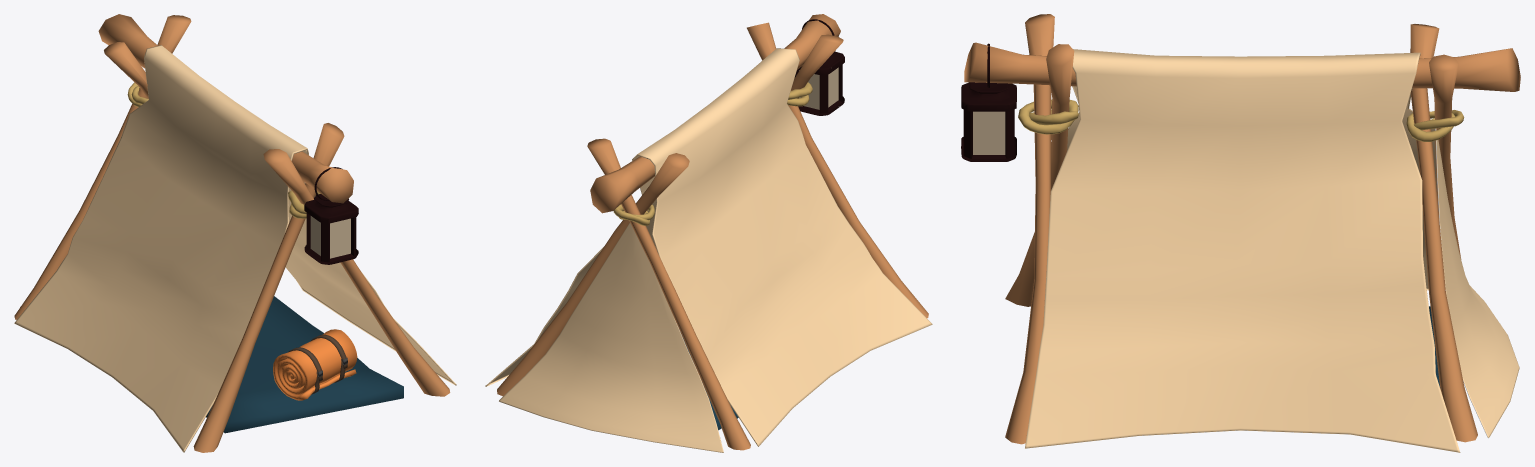
Rendered from tent.glb.
The picture shows the model from 3 angles, left to right: view 1: azimuth 30°, elevation 25°; view 2: azimuth 150°, elevation 25°; view 3: azimuth 270°, elevation 25°; orthographic projection. The views are drawn at different scales.
Visible parts, largest first — view 1: tent_Mat_0.021, tent_Mat_0.008, tent_Mat_0.002, tent_Mat_0.001, tent_Mat_0.005, Lamp, tent_Mat_0, tent_Mat_0.004, tent_Mat_0.003; view 2: tent_Mat_0.021, tent_Mat_0.018, tent_Mat_0.004, tent_Mat_0.003, tent_Mat_0, tent_Mat_0.002, Lamp, tent_Mat_0.001; view 3: tent_Mat_0.021, tent_Mat_0.018, tent_Mat_0.003, tent_Mat_0.001, tent_Mat_0, Lamp, tent_Mat_0.002, tent_Mat_0.004, tent_Mat_0.006, tent_Mat_0.010.
Part boxes in pixels (x1,y1,x2,y2): tent_Mat_0.021: (14, 45, 456, 452); tent_Mat_0.008: (206, 296, 403, 433); tent_Mat_0.002: (193, 123, 344, 452); tent_Mat_0.001: (263, 149, 450, 396); tent_Mat_0.005: (273, 329, 357, 400); Lamp: (304, 167, 358, 264); tent_Mat_0: (98, 14, 353, 203); tent_Mat_0.004: (14, 15, 191, 319); tent_Mat_0.003: (104, 42, 148, 98); tent_Mat_0.021: (485, 48, 932, 446); tent_Mat_0.018: (499, 223, 723, 452); tent_Mat_0.004: (587, 138, 750, 450); tent_Mat_0.003: (497, 153, 689, 396); tent_Mat_0: (590, 14, 840, 213); tent_Mat_0.002: (747, 22, 928, 318); Lamp: (794, 19, 844, 115); tent_Mat_0.001: (791, 34, 843, 90); tent_Mat_0.021: (1025, 49, 1460, 452); tent_Mat_0.018: (1436, 128, 1519, 437); tent_Mat_0.003: (1410, 24, 1477, 442); tent_Mat_0.001: (1005, 14, 1054, 444); tent_Mat_0: (964, 42, 1520, 91); Lamp: (961, 43, 1016, 161); tent_Mat_0.002: (1005, 44, 1074, 306); tent_Mat_0.004: (1429, 54, 1461, 259); tent_Mat_0.006: (1018, 99, 1078, 134); tent_Mat_0.010: (1406, 111, 1455, 141).
Size of the model in its own units: 4.99 by 4.82 by 7.21.
